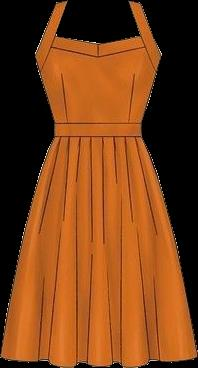Bodice: (35, 0, 161, 136)
Hemline: (0, 353, 197, 367)
Neckline: (53, 0, 141, 47), (52, 119, 141, 124)
Skirt: (1, 137, 196, 367)
Waistline: (53, 134, 143, 141)
